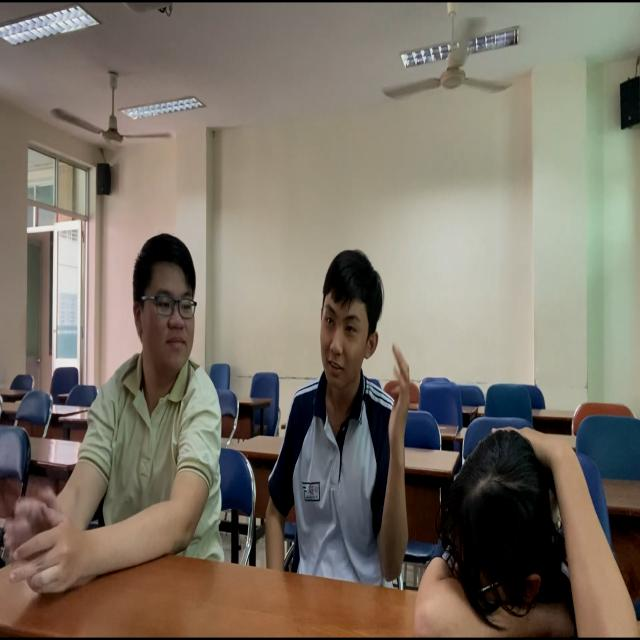raise_hand: (264, 243, 416, 590)
sleep: (410, 404, 640, 640)
